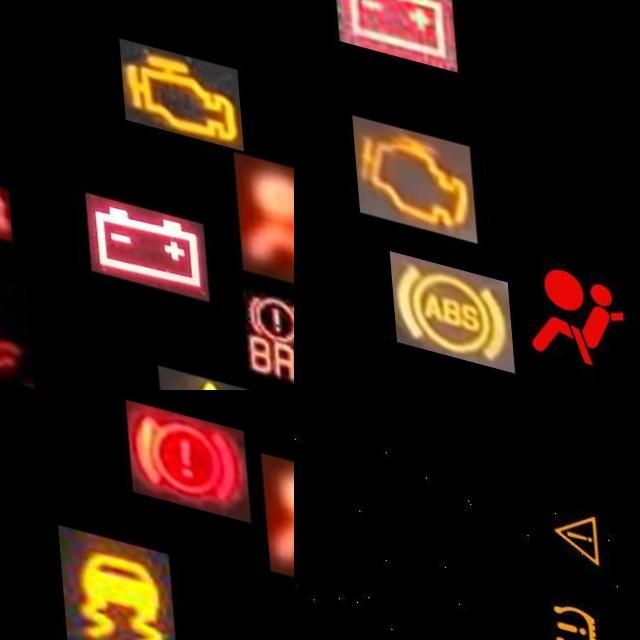Central Warning lamp: (152, 348, 276, 390)
Engine cooling system: (0, 254, 27, 379)
